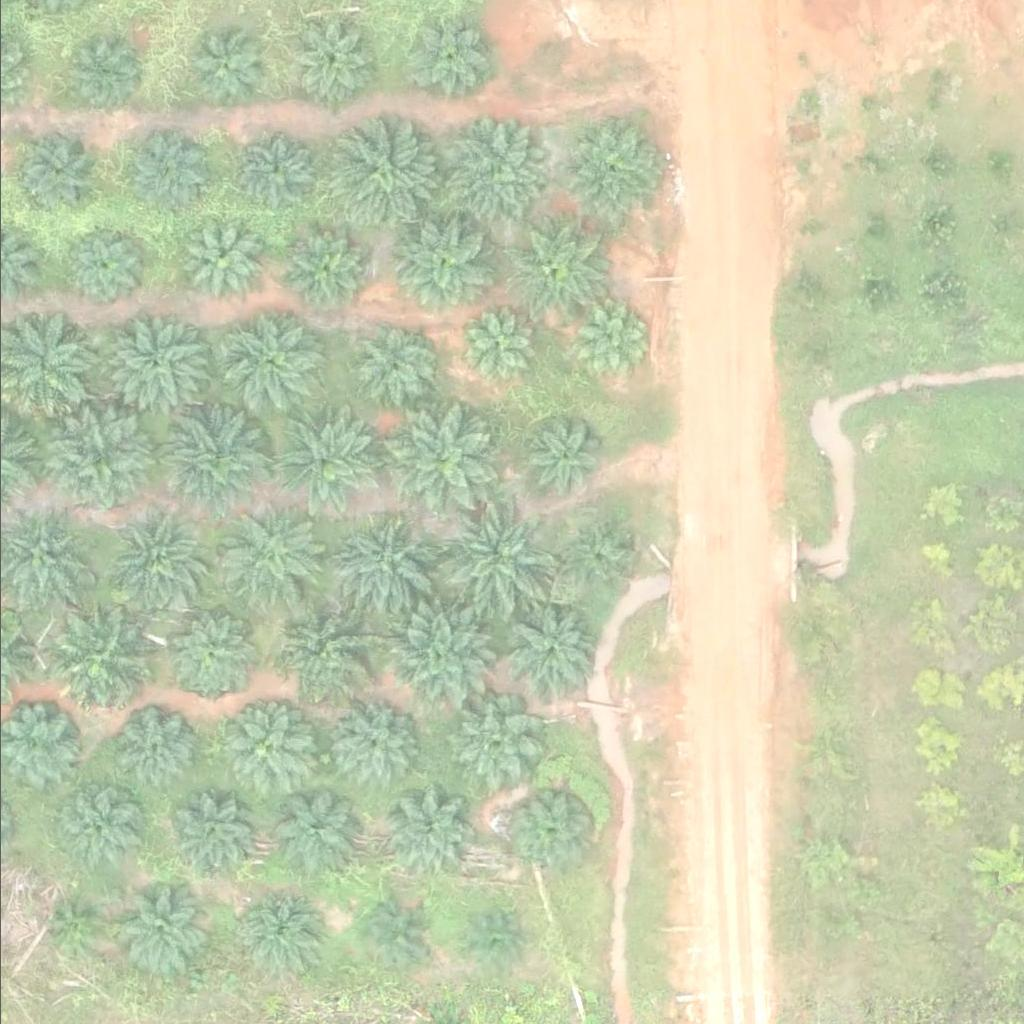Kelapa_Sawit: (439, 504, 564, 629), (433, 119, 547, 232), (326, 125, 440, 238), (387, 406, 500, 519), (268, 411, 381, 524), (159, 405, 272, 518), (40, 405, 154, 517), (559, 120, 660, 220), (508, 218, 609, 318), (333, 519, 434, 619), (218, 509, 319, 609), (97, 509, 198, 609), (387, 607, 488, 707), (271, 599, 372, 699), (48, 613, 149, 713), (389, 218, 489, 318), (222, 315, 322, 415), (108, 318, 208, 418), (221, 705, 310, 793), (502, 608, 590, 696), (167, 609, 255, 697), (110, 705, 198, 793), (235, 888, 323, 976), (515, 415, 604, 502), (563, 303, 651, 390), (57, 226, 145, 313), (12, 135, 100, 222), (448, 699, 536, 786), (323, 701, 411, 788), (381, 789, 469, 876), (268, 787, 356, 874), (166, 787, 254, 874), (48, 781, 136, 868), (116, 888, 204, 975), (290, 24, 366, 99), (514, 794, 590, 869), (410, 19, 486, 94), (237, 139, 313, 214), (123, 137, 199, 212), (284, 231, 360, 306), (180, 226, 256, 301), (351, 333, 427, 408), (459, 308, 534, 383), (63, 30, 138, 105), (191, 32, 266, 107), (361, 905, 424, 967), (564, 528, 627, 590), (43, 901, 94, 951), (464, 915, 514, 965)
